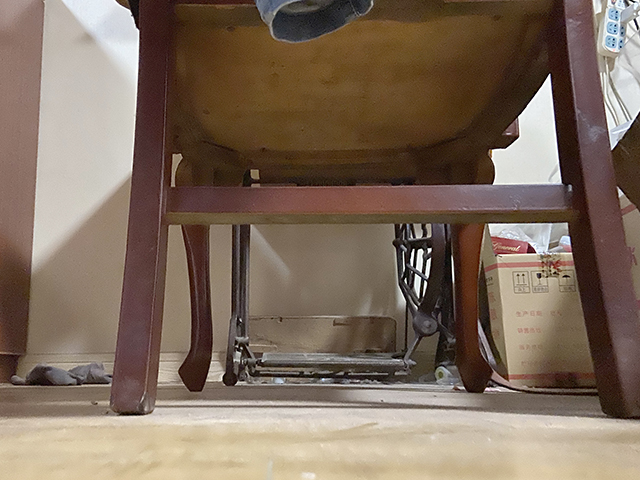socks: (10, 360, 111, 388)
stool: (110, 1, 640, 419)
wire: (490, 378, 599, 398)
